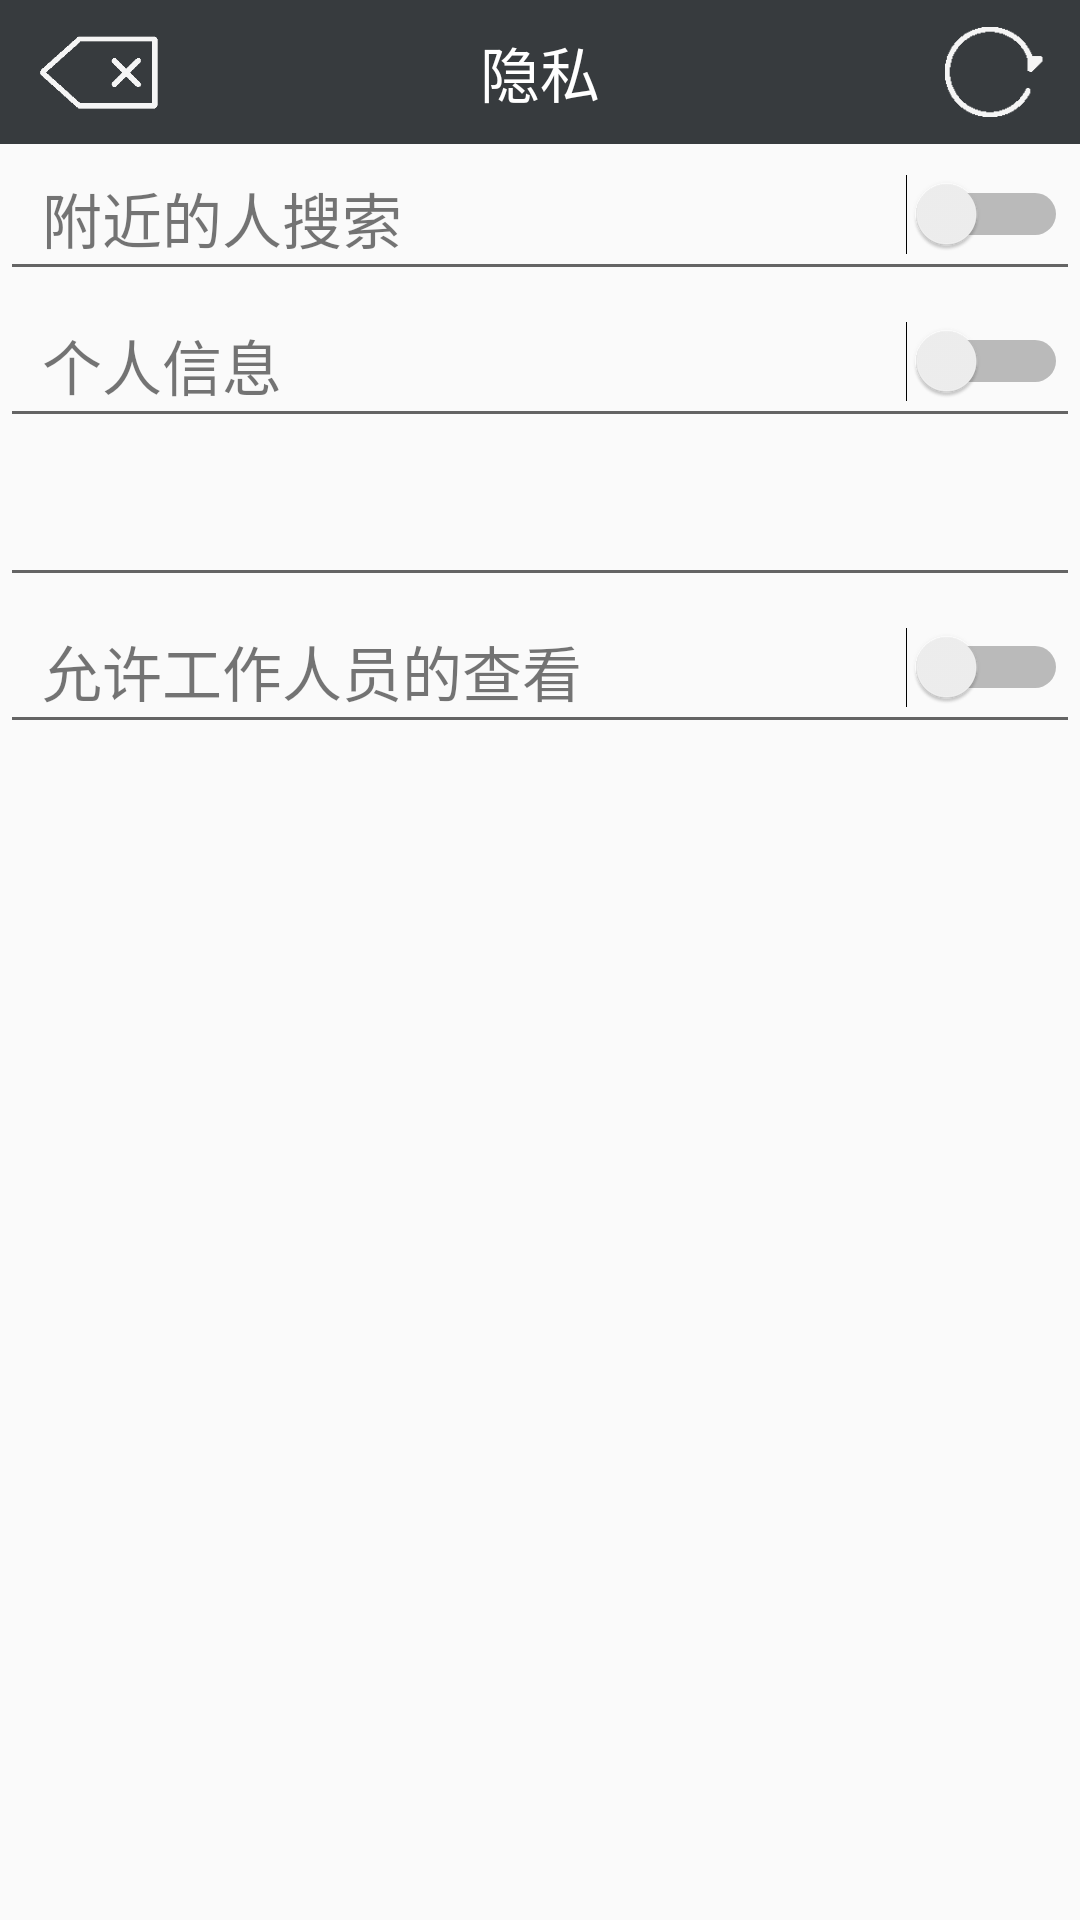

Point at icon controls on the screen. Image size 1080px×1920px, points as point (x, y).
shuaxin: point (994, 72)
